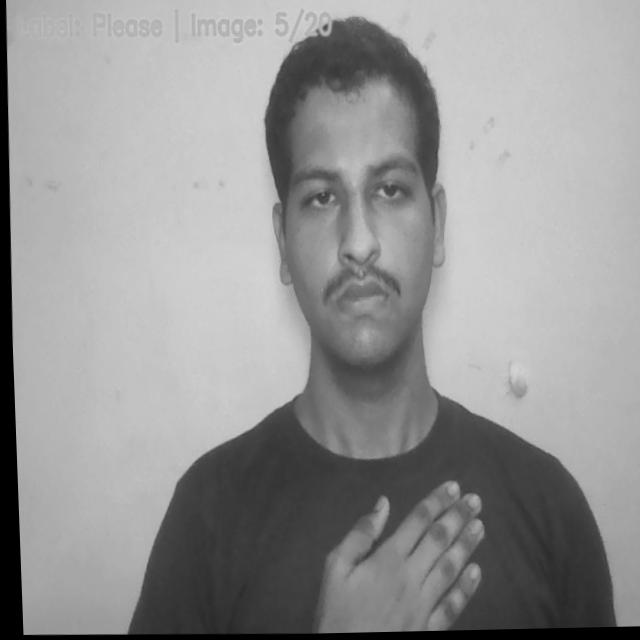Please: (308, 481, 490, 635)
